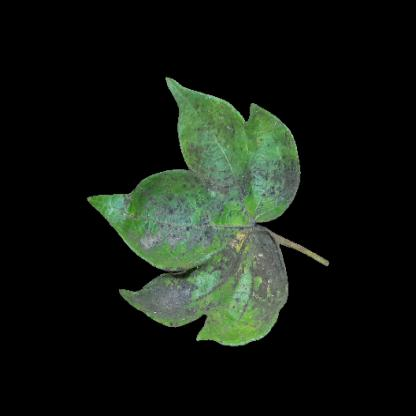curl_stage1: (213, 318, 255, 341)
sooty: (153, 180, 226, 257), (231, 150, 300, 205), (185, 108, 238, 178), (255, 239, 286, 306), (152, 284, 203, 324)
